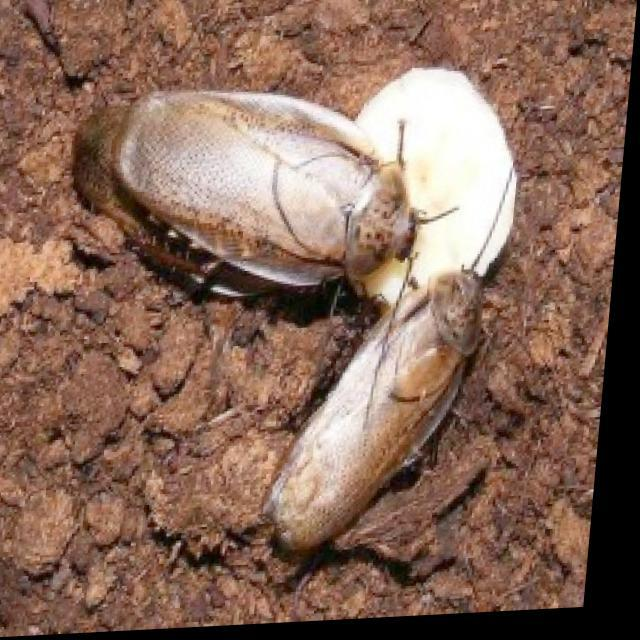cockroach: (256, 228, 526, 576), (99, 66, 423, 322)
